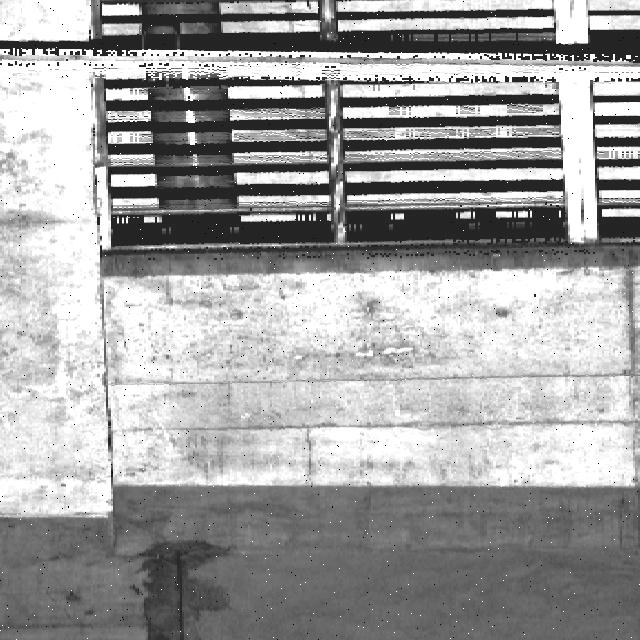leakage: (140, 535, 235, 639)
